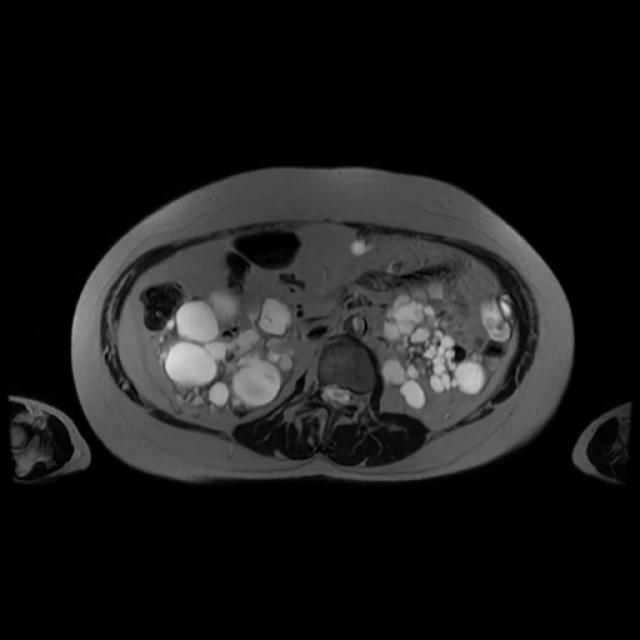sag: (156, 285, 299, 416)
sol: (382, 278, 488, 408)
